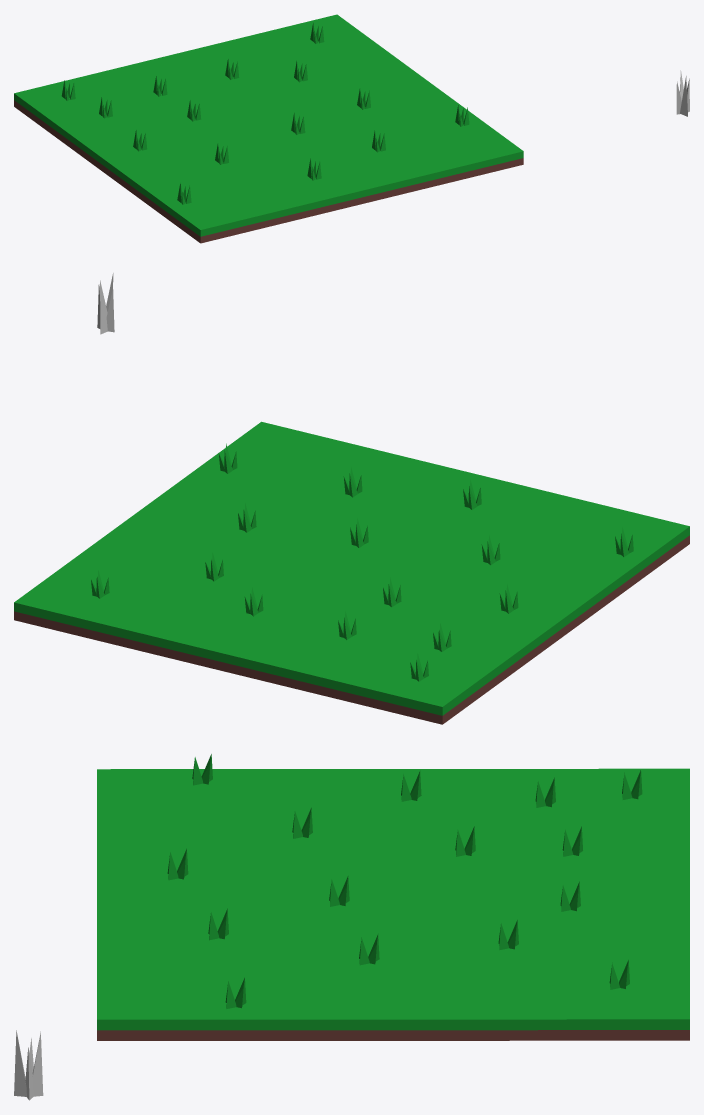
File: Piso(CloudyWithAChanceOfAsteroids) (3).fbx
3 renders of one model, top to bottom at view 1: azimuth 30°, elevation 25°; view 2: azimuth 150°, elevation 25°; view 3: azimuth 270°, elevation 25°, orthographic. The views are drawn at different scales.
Visible parts, largest first — view 1: Cone, Detalle Pasto.008; view 2: Cone, Detalle Pasto.008; view 3: Cone, Detalle Pasto.008.
Part boxes in pixels (x1,y1,x2,y2): Cone: (14,14,523,243); Detalle Pasto.008: (676,70,689,116); Cone: (14,421,689,724); Detalle Pasto.008: (97,273,114,334); Cone: (97,754,689,1040); Detalle Pasto.008: (14,1030,43,1100).
Size of the model in its own units: 3621 by 548 by 2850.
